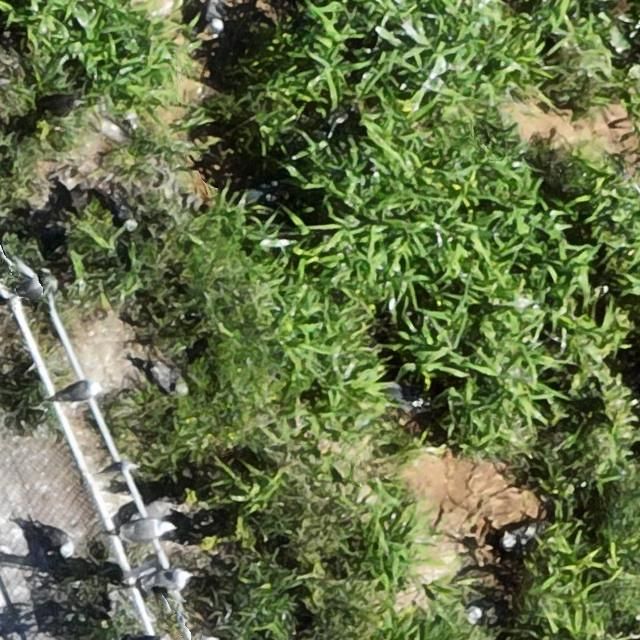umineko: (501, 523, 548, 550), (145, 568, 192, 592), (119, 517, 167, 540), (466, 597, 506, 624), (39, 528, 77, 556), (57, 381, 97, 400), (153, 364, 180, 392), (116, 199, 138, 232), (15, 276, 45, 296), (208, 2, 224, 32)
